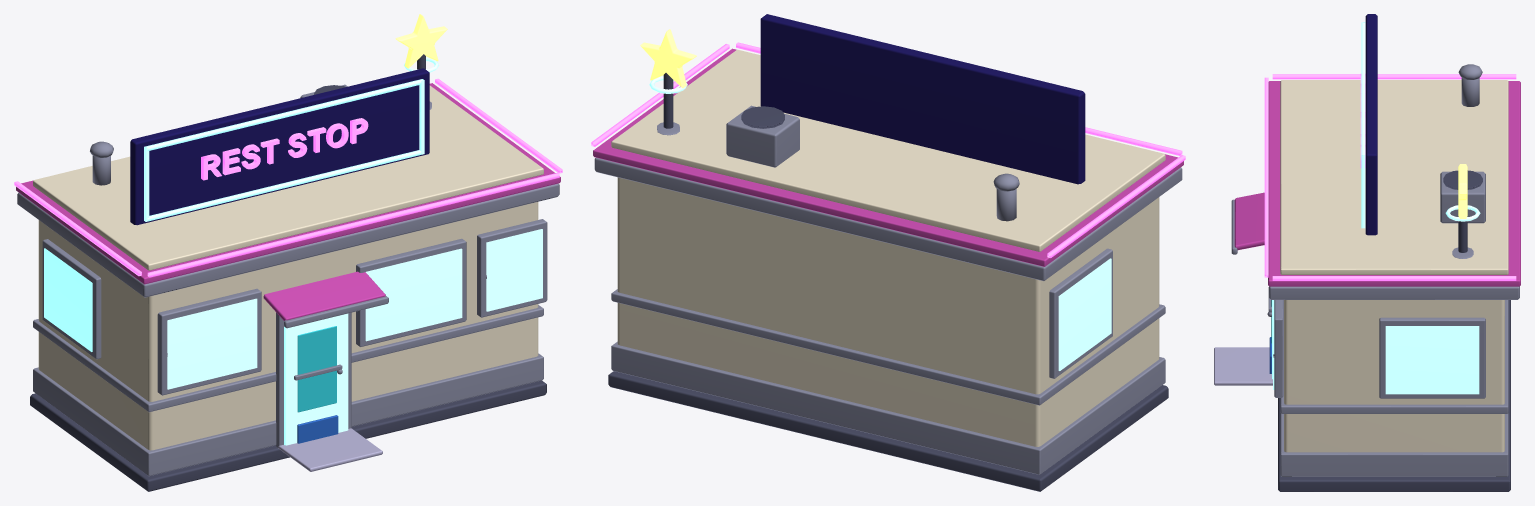
File: rest_stop.glb
3 renders of one model, left to right at view 1: azimuth 30°, elevation 25°; view 2: azimuth 150°, elevation 25°; view 3: azimuth 270°, elevation 25°, orthographic. The views are drawn at different scales.
Visible parts, largest first — view 1: RestStop.001; view 2: RestStop.001; view 3: RestStop.001.
Part boxes in pixels (<box>): RestStop.001: <box>14,14,562,491</box>; RestStop.001: <box>591,14,1185,491</box>; RestStop.001: <box>1214,14,1520,491</box>.
Size of the model in its own units: 6.31 by 4.54 by 4.03.
